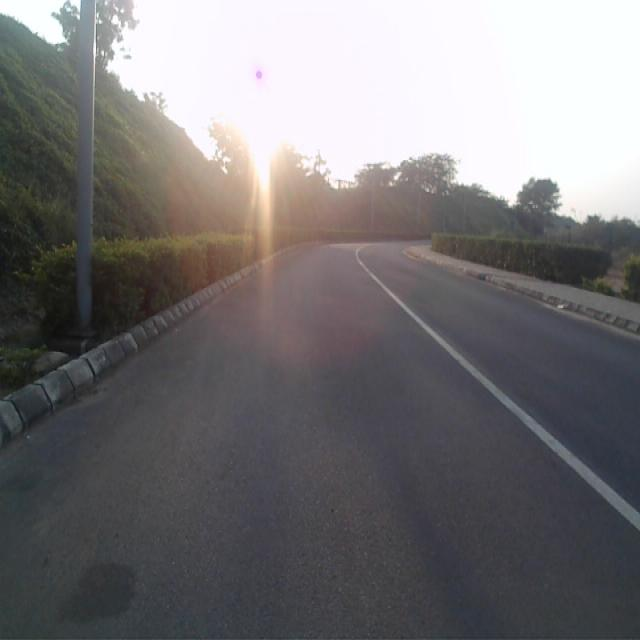lane: (0, 243, 640, 640)
